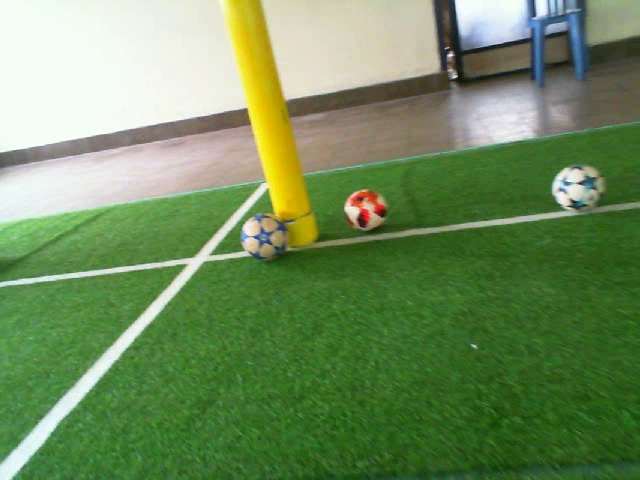ball: (550, 162, 608, 215), (239, 212, 291, 263), (342, 187, 389, 232)
